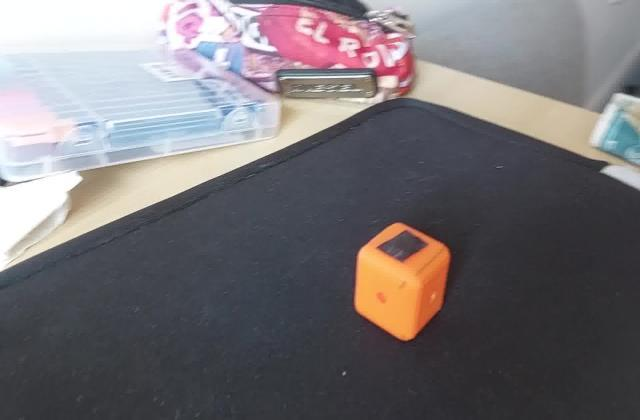black: (376, 231, 426, 262)
cube: (349, 219, 454, 346)
